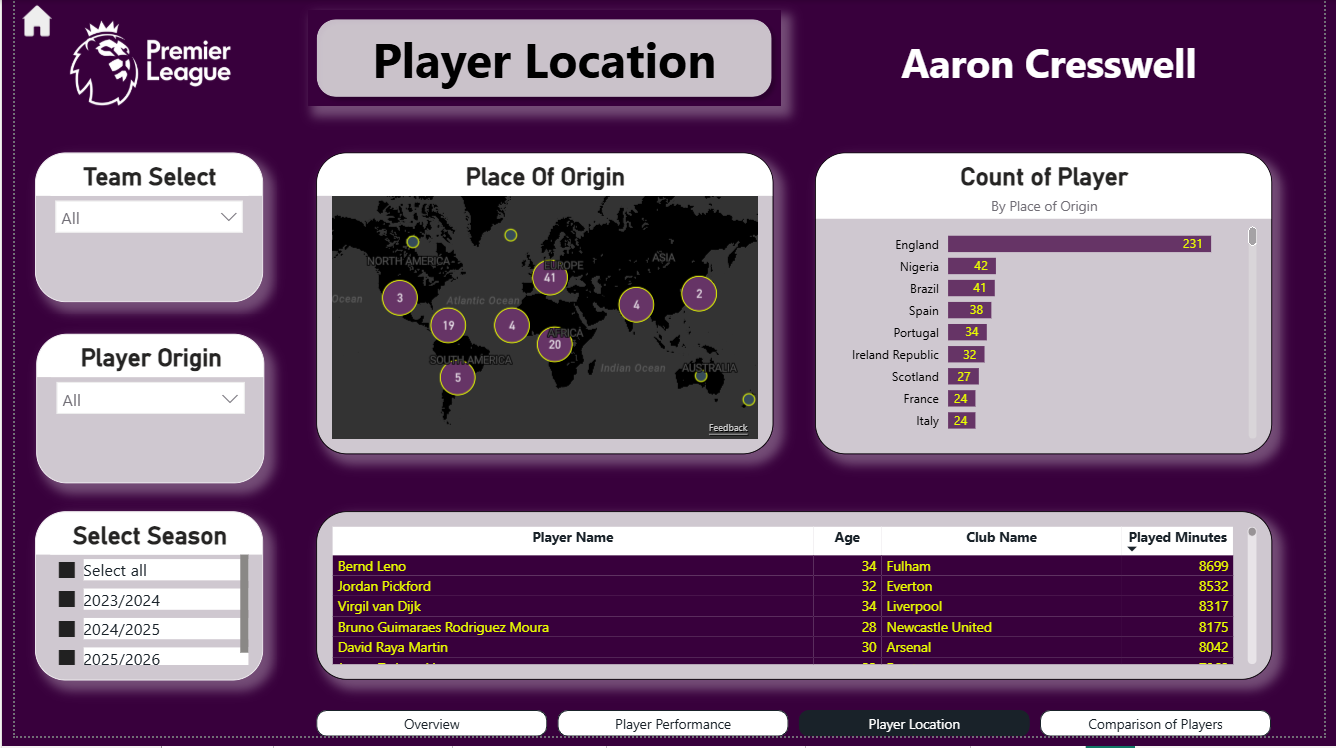

Layout of this report page (visuals, bound fields, positions):
{"tool":"powerbi","page":{"name":"Player Location","canvas":[1280,720],"ordinal":2},"visuals":[{"type":"image","box":[20.4,9.7,223.7,104.1],"z":0},{"type":"slicer","title":"Team Select","fields":{"Values":["Dim_TeamSeason.Club Name"]},"box":[20,149.6,223.3,146.5],"z":1000},{"type":"slicer","title":"Select Season","fields":{"Values":["Dim_TeamSeason.Season"]},"box":[20,500.2,223.3,165.7],"z":2000},{"type":"card","fields":{"Values":["Min(Dim_player.Player Name)"]},"box":[741.7,21.2,538.6,79.8],"z":3000},{"type":"shape","box":[286,10,463,94],"z":4000},{"type":"pageNavigator","box":[295,694,935,26],"z":5000},{"type":"azureMap","title":"Place Of Origin","fields":{"Category":["Dim_player.Passport"]},"box":[295,149,447,295],"z":6000},{"type":"barChart","title":"Count of Player","fields":{"Category":["Dim_player.Passport"],"Y":["CountNonNull(Dim_player.Player Name)"]},"box":[783,149,447,295],"z":7000},{"type":"tableEx","fields":{"Values":["Dim_player.Player Name","Dim_player.Age","Dim_TeamSeason.Club Name","Sum(Fact_Player_performance.Minutes)"]},"box":[295,500,935,165],"z":8000},{"type":"image","box":[0,0,43,41],"z":9000},{"type":"slicer","title":"Player Origin ","fields":{"Values":["Dim_player.Passport"]},"box":[20.9,326,223.4,146.1],"z":10000}]}

Visuals, with their boxes in screenshot pixels (x1, y1, x2, y2), scaled from the page's 1280x720 canvas onto the 1336x748 screenshot:
image: box(21, 10, 255, 118)
"Team Select" slicer: box(21, 155, 254, 308)
"Select Season" slicer: box(21, 520, 254, 692)
card - Min(Dim_player.Player Name): box(774, 22, 1335, 105)
shape: box(299, 10, 782, 108)
pageNavigator: box(308, 721, 1284, 747)
"Place Of Origin" azureMap: box(308, 155, 774, 461)
"Count of Player" barChart: box(817, 155, 1284, 461)
tableEx - Dim_player.Player Name x Dim_player.Age: box(308, 519, 1284, 691)
image: box(0, 0, 45, 43)
"Player Origin " slicer: box(22, 339, 255, 490)
